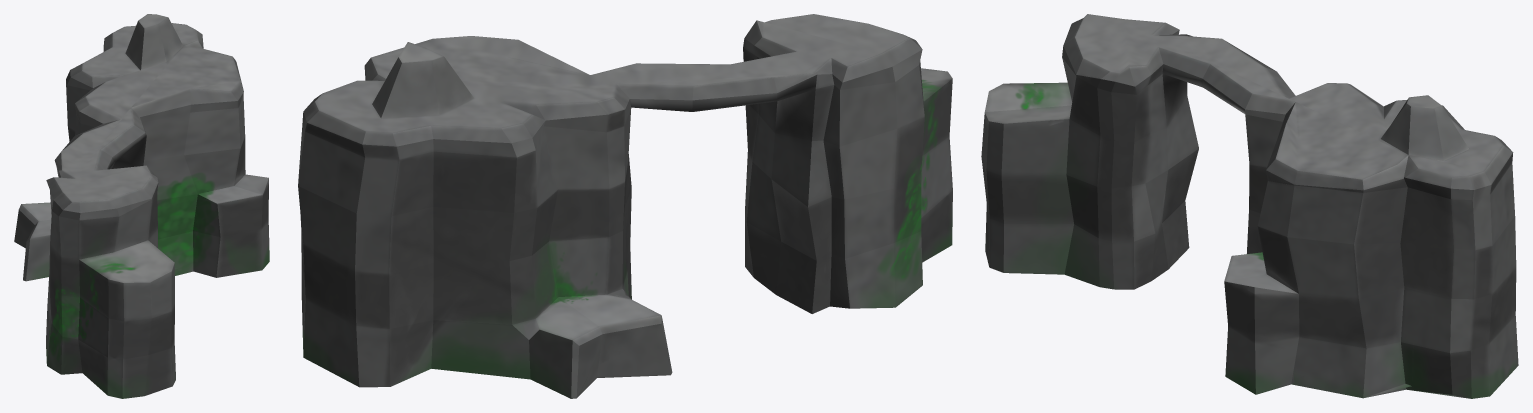
File: batu 7.fbx
3 renders of one model, left to right at view 1: azimuth 30°, elevation 25°; view 2: azimuth 150°, elevation 25°; view 3: azimuth 270°, elevation 25°, orthographic. The views are drawn at different scales.
Parts seen in each view (by area): view 1: batu7; view 2: batu7; view 3: batu7.
Part boxes in pixels (x1=…): batu7: x1=14, y1=14, x2=269, y2=398; batu7: x1=298, y1=14, x2=952, y2=398; batu7: x1=981, y1=14, x2=1518, y2=398.
Bounding box in the file's own units: 378 × 265 × 482.
